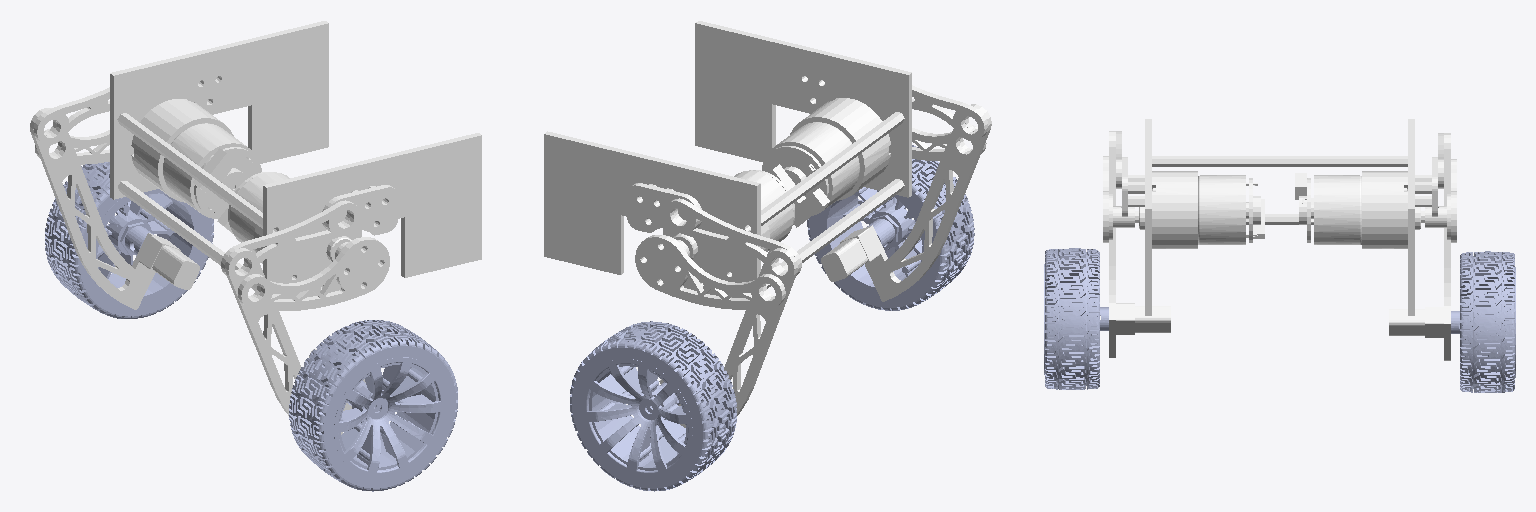
URDF robot description (Assembly_overall_v0.0.SLDASM):
<?xml version="1.0" encoding="utf-8"?>
<!-- This URDF was automatically created by SolidWorks to URDF Exporter! Originally created by [author] ([email redacted]) 
     Commit Version: 1.6.1-8-g78fed4e-dirty  Build Version: 1.6.8924.26967
     For more information, please see http://wiki.ros.org/sw_urdf_exporter -->
<robot
  name="Assembly_overall_v0.0.SLDASM">
  <link
    name="base_link">
    <inertial>
      <origin
        xyz="-0.012879 -0.0135 -0.00029326"
        rpy="0 0 0" />
      <mass
        value="0.13626" />
      <inertia
        ixx="4.2581E-05"
        ixy="5.1136E-21"
        ixz="2.4036E-08"
        iyy="5.4484E-05"
        iyz="3.3616E-07"
        izz="6.6494E-05" />
    </inertial>
    <visual>
      <origin
        xyz="0 0 0"
        rpy="0 0 0" />
      <geometry>
        <mesh
          filename="package://Assembly_overall_v0.0.SLDASM/meshes/base_link.STL" />
      </geometry>
      <material
        name="">
        <color
          rgba="1 1 1 0.35" />
      </material>
    </visual>
    <collision>
      <origin
        xyz="0 0 0"
        rpy="0 0 0" />
      <geometry>
        <mesh
          filename="package://Assembly_overall_v0.0.SLDASM/meshes/base_link.STL" />
      </geometry>
    </collision>
  </link>
  <link
    name="right_leg">
    <inertial>
      <origin
        xyz="0.0083782 -0.00097556 -0.0012867"
        rpy="0 0 0" />
      <mass
        value="0.0061572" />
      <inertia
        ixx="2.2499E-07"
        ixy="-1.4572E-14"
        ixz="7.0221E-08"
        iyy="1.4353E-06"
        iyz="-1.5993E-15"
        izz="1.2919E-06" />
    </inertial>
    <visual>
      <origin
        xyz="0 0 0"
        rpy="0 0 0" />
      <geometry>
        <mesh
          filename="package://Assembly_overall_v0.0.SLDASM/meshes/right_leg.STL" />
      </geometry>
      <material
        name="">
        <color
          rgba="1 1 1 0.35" />
      </material>
    </visual>
    <collision>
      <origin
        xyz="0 0 0"
        rpy="0 0 0" />
      <geometry>
        <mesh
          filename="package://Assembly_overall_v0.0.SLDASM/meshes/right_leg.STL" />
      </geometry>
    </collision>
  </link>
  <joint
    name="right_leg"
    type="revolute">
    <origin
      xyz="-0.010985 -0.0935 -0.0033489"
      rpy="0 -0.0083976 3.1416" />
    <parent
      link="base_link" />
    <child
      link="right_leg" />
    <axis
      xyz="0 1 0" />
    <limit
      lower="0"
      upper="0"
      effort="0"
      velocity="0" />
  </joint>
  <link
    name="right_motor">
    <inertial>
      <origin
        xyz="0.0117431609370559 -0.00392679780963535 0.0625677211557477"
        rpy="0 0 0" />
      <mass
        value="0.00744670173231385" />
      <inertia
        ixx="4.349401547325E-06"
        ixy="1.16908650938029E-10"
        ixz="-5.9605417722078E-07"
        iyy="4.50572616091561E-06"
        iyz="-9.80980058831325E-11"
        izz="5.30816144048294E-07" />
    </inertial>
    <visual>
      <origin
        xyz="0 0 0"
        rpy="0 0 0" />
      <geometry>
        <mesh
          filename="package://Assembly_overall_v0.0.SLDASM/meshes/right_motor.STL" />
      </geometry>
      <material
        name="">
        <color
          rgba="1 1 1 0.35" />
      </material>
    </visual>
    <collision>
      <origin
        xyz="0 0 0"
        rpy="0 0 0" />
      <geometry>
        <mesh
          filename="package://Assembly_overall_v0.0.SLDASM/meshes/right_motor.STL" />
      </geometry>
    </collision>
  </link>
  <joint
    name="right_motor"
    type="revolute">
    <origin
      xyz="0.054389 -0.003 0.011168"
      rpy="-3.1416 -0.37446 3.1416" />
    <parent
      link="right_leg" />
    <child
      link="right_motor" />
    <axis
      xyz="0 1 0" />
    <limit
      lower="0"
      upper="0"
      effort="0"
      velocity="0" />
  </joint>
  <link
    name="right_wheel">
    <inertial>
      <origin
        xyz="-0.0193500305694465 0.0184991043568992 3.51077662982813E-08"
        rpy="0 0 0" />
      <mass
        value="0.0484551794528226" />
      <inertia
        ixx="1.82785286774476E-05"
        ixy="-2.14596444280982E-11"
        ixz="-1.46762948457622E-09"
        iyy="3.14876177418613E-05"
        iyz="1.33405516235463E-11"
        izz="1.82798253984324E-05" />
    </inertial>
    <visual>
      <origin
        xyz="0 0 0"
        rpy="0 0 0" />
      <geometry>
        <mesh
          filename="package://Assembly_overall_v0.0.SLDASM/meshes/right_wheel.STL" />
      </geometry>
      <material
        name="">
        <color
          rgba="0.792156862745098 0.819607843137255 0.933333333333333 1" />
      </material>
    </visual>
    <collision>
      <origin
        xyz="0 0 0"
        rpy="0 0 0" />
      <geometry>
        <mesh
          filename="package://Assembly_overall_v0.0.SLDASM/meshes/right_wheel.STL" />
      </geometry>
    </collision>
  </link>
  <joint
    name="right_wheel"
    type="revolute">
    <origin
      xyz="0.037417 0.0015 0.093252"
      rpy="0 -0.76161 0" />
    <parent
      link="right_motor" />
    <child
      link="right_wheel" />
    <axis
      xyz="0 1 0" />
    <limit
      lower="0"
      upper="0"
      effort="0"
      velocity="0" />
  </joint>
  <link
    name="left_leg">
    <inertial>
      <origin
        xyz="0.0083782 0.0039756 -0.0012867"
        rpy="0 0 0" />
      <mass
        value="0.0061572" />
      <inertia
        ixx="2.2499E-07"
        ixy="-1.4572E-14"
        ixz="7.0221E-08"
        iyy="1.4353E-06"
        iyz="1.5993E-15"
        izz="1.2919E-06" />
    </inertial>
    <visual>
      <origin
        xyz="0 0 0"
        rpy="0 0 0" />
      <geometry>
        <mesh
          filename="package://Assembly_overall_v0.0.SLDASM/meshes/left_leg.STL" />
      </geometry>
      <material
        name="">
        <color
          rgba="1 1 1 0.35" />
      </material>
    </visual>
    <collision>
      <origin
        xyz="0 0 0"
        rpy="0 0 0" />
      <geometry>
        <mesh
          filename="package://Assembly_overall_v0.0.SLDASM/meshes/left_leg.STL" />
      </geometry>
    </collision>
  </link>
  <joint
    name="left_leg"
    type="revolute">
    <origin
      xyz="-0.010985 0.0695 -0.0033489"
      rpy="0 0.01638 3.1416" />
    <parent
      link="base_link" />
    <child
      link="left_leg" />
    <axis
      xyz="0 1 0" />
    <limit
      lower="0"
      upper="0"
      effort="0"
      velocity="0" />
  </joint>
  <link
    name="left_motor">
    <inertial>
      <origin
        xyz="0.0117431609370505 0.00692679780963534 0.062567721155764"
        rpy="0 0 0" />
      <mass
        value="0.00744670173231385" />
      <inertia
        ixx="4.34940154732499E-06"
        ixy="-1.16908650937643E-10"
        ixz="-5.9605417722077E-07"
        iyy="4.50572616091561E-06"
        iyz="9.80980058851035E-11"
        izz="5.30816144048292E-07" />
    </inertial>
    <visual>
      <origin
        xyz="0 0 0"
        rpy="0 0 0" />
      <geometry>
        <mesh
          filename="package://Assembly_overall_v0.0.SLDASM/meshes/left_motor.STL" />
      </geometry>
      <material
        name="">
        <color
          rgba="1 1 1 0.35" />
      </material>
    </visual>
    <collision>
      <origin
        xyz="0 0 0"
        rpy="0 0 0" />
      <geometry>
        <mesh
          filename="package://Assembly_overall_v0.0.SLDASM/meshes/left_motor.STL" />
      </geometry>
    </collision>
  </link>
  <joint
    name="left_motor"
    type="revolute">
    <origin
      xyz="0.053903 0.003 0.011347"
      rpy="-3.1416 -0.33131 3.1416" />
    <parent
      link="left_leg" />
    <child
      link="left_motor" />
    <axis
      xyz="0 1 0" />
    <limit
      lower="0"
      upper="0"
      effort="0"
      velocity="0" />
  </joint>
  <link
    name="left_wheel">
    <inertial>
      <origin
        xyz="-0.01935 0.018499 3.4445E-08"
        rpy="0 0 0" />
      <mass
        value="0.048455" />
      <inertia
        ixx="1.8278E-05"
        ixy="-2.2047E-11"
        ixz="1.2983E-09"
        iyy="3.1488E-05"
        iyz="1.3619E-11"
        izz="1.828E-05" />
    </inertial>
    <visual>
      <origin
        xyz="0 0 0"
        rpy="0 0 0" />
      <geometry>
        <mesh
          filename="package://Assembly_overall_v0.0.SLDASM/meshes/left_wheel.STL" />
      </geometry>
      <material
        name="">
        <color
          rgba="0.79216 0.81961 0.93333 1" />
      </material>
    </visual>
    <collision>
      <origin
        xyz="0 0 0"
        rpy="0 0 0" />
      <geometry>
        <mesh
          filename="package://Assembly_overall_v0.0.SLDASM/meshes/left_wheel.STL" />
      </geometry>
    </collision>
  </link>
  <joint
    name="left_wheel"
    type="revolute">
    <origin
      xyz="0.020945 0.0015 0.060707"
      rpy="0 1.4429 -3.1416" />
    <parent
      link="left_motor" />
    <child
      link="left_wheel" />
    <axis
      xyz="0 1 0" />
    <limit
      lower="0"
      upper="0"
      effort="0"
      velocity="0" />
  </joint>
  <link
    name="right_top">
    <inertial>
      <origin
        xyz="0.0250206183459842 0.0015 -0.000559413785413816"
        rpy="0 0 0" />
      <mass
        value="0.00172086992397043" />
      <inertia
        ixx="2.56463520901954E-08"
        ixy="4.24186731456841E-23"
        ixz="-1.062892032188E-08"
        iyy="6.37532224326688E-07"
        iyz="-9.7769479252199E-23"
        izz="6.14467177122448E-07" />
    </inertial>
    <visual>
      <origin
        xyz="0 0 0"
        rpy="0 0 0" />
      <geometry>
        <mesh
          filename="package://Assembly_overall_v0.0.SLDASM/meshes/right_top.STL" />
      </geometry>
      <material
        name="">
        <color
          rgba="1 1 1 0.35" />
      </material>
    </visual>
    <collision>
      <origin
        xyz="0 0 0"
        rpy="0 0 0" />
      <geometry>
        <mesh
          filename="package://Assembly_overall_v0.0.SLDASM/meshes/right_top.STL" />
      </geometry>
    </collision>
  </link>
  <joint
    name="right_top"
    type="revolute">
    <origin
      xyz="-0.065279 -0.0875 0.0082759"
      rpy="3.1416 -0.1683 0" />
    <parent
      link="base_link" />
    <child
      link="right_top" />
    <axis
      xyz="0 1 0" />
    <limit
      lower="0"
      upper="0"
      effort="0"
      velocity="0" />
  </joint>
  <link
    name="right_bottom">
    <inertial>
      <origin
        xyz="0.00414810752214947 0.0015 0.0512842007199136"
        rpy="0 0 0" />
      <mass
        value="0.00451046468572221" />
      <inertia
        ixx="4.13965246446439E-06"
        ixy="5.32459474498724E-23"
        ixz="-6.00834070146859E-07"
        iyy="4.45226818044798E-06"
        iyz="4.06013977068546E-22"
        izz="3.19381413012173E-07" />
    </inertial>
    <visual>
      <origin
        xyz="0 0 0"
        rpy="0 0 0" />
      <geometry>
        <mesh
          filename="package://Assembly_overall_v0.0.SLDASM/meshes/right_bottom.STL" />
      </geometry>
      <material
        name="">
        <color
          rgba="1 1 1 0.35" />
      </material>
    </visual>
    <collision>
      <origin
        xyz="0 0 0"
        rpy="0 0 0" />
      <geometry>
        <mesh
          filename="package://Assembly_overall_v0.0.SLDASM/meshes/right_bottom.STL" />
      </geometry>
    </collision>
  </link>
  <joint
    name="right_bottom"
    type="revolute">
    <origin
      xyz="0 0.003 0"
      rpy="0 0.19777 0" />
    <parent
      link="right_top" />
    <child
      link="right_bottom" />
    <axis
      xyz="0 1 0" />
    <limit
      lower="0"
      upper="0"
      effort="0"
      velocity="0" />
  </joint>
  <link
    name="left_top">
    <inertial>
      <origin
        xyz="0 0 0"
        rpy="0 0 0" />
      <mass
        value="0" />
      <inertia
        ixx="0"
        ixy="0"
        ixz="0"
        iyy="0"
        iyz="0"
        izz="0" />
    </inertial>
    <visual>
      <origin
        xyz="0 0 0"
        rpy="0 0 0" />
      <geometry>
        <mesh
          filename="package://Assembly_overall_v0.0.SLDASM/meshes/left_top.STL" />
      </geometry>
      <material
        name="">
        <color
          rgba="1 1 1 1" />
      </material>
    </visual>
    <collision>
      <origin
        xyz="0 0 0"
        rpy="0 0 0" />
      <geometry>
        <mesh
          filename="package://Assembly_overall_v0.0.SLDASM/meshes/left_top.STL" />
      </geometry>
    </collision>
  </link>
  <joint
    name="left_top"
    type="revolute">
    <origin
      xyz="-0.065067 0.0635 0.007114"
      rpy="3.1416 -0.19192 0" />
    <parent
      link="base_link" />
    <child
      link="left_top" />
    <axis
      xyz="0 1 0" />
    <limit
      lower="0"
      upper="0"
      effort="0"
      velocity="0" />
  </joint>
  <link
    name="left_bottom">
    <inertial>
      <origin
        xyz="0.0041481 0.0015 0.051284"
        rpy="0 0 0" />
      <mass
        value="0.0045105" />
      <inertia
        ixx="4.1397E-06"
        ixy="7.2811E-22"
        ixz="-6.0083E-07"
        iyy="4.4523E-06"
        iyz="1.565E-21"
        izz="3.1938E-07" />
    </inertial>
    <visual>
      <origin
        xyz="0 0 0"
        rpy="0 0 0" />
      <geometry>
        <mesh
          filename="package://Assembly_overall_v0.0.SLDASM/meshes/left_bottom.STL" />
      </geometry>
      <material
        name="">
        <color
          rgba="1 1 1 0.35" />
      </material>
    </visual>
    <collision>
      <origin
        xyz="0 0 0"
        rpy="0 0 0" />
      <geometry>
        <mesh
          filename="package://Assembly_overall_v0.0.SLDASM/meshes/left_bottom.STL" />
      </geometry>
    </collision>
  </link>
  <joint
    name="left_bottom"
    type="revolute">
    <origin
      xyz="0 -0.003 0"
      rpy="0 0.15577 0" />
    <parent
      link="left_top" />
    <child
      link="left_bottom" />
    <axis
      xyz="0 1 0" />
    <limit
      lower="0"
      upper="0"
      effort="0"
      velocity="0" />
  </joint>
</robot>

--- What the picture shows (computed from the rendered views, not written in the file) ---
3 views of the same robot in one strip: view 1: azimuth 30°, elevation 25°; view 2: azimuth 150°, elevation 25°; view 3: azimuth 270°, elevation 25° (orthographic).
Model Assembly_overall_v0.0.SLDASM with 11 links and 10 joints (10 revolute), rooted at base_link, posed all joints at 0.
Links seen in each view (by area): view 1: base_link, right_wheel, left_wheel, left_motor, right_leg, right_motor, right_top, left_top, left_bottom, left_leg, right_bottom; view 2: base_link, left_wheel, right_wheel, right_bottom, left_leg, left_bottom, left_top, right_motor, right_top, right_leg; view 3: base_link, right_wheel, left_wheel, left_motor, right_motor, right_leg, left_leg.
Link boxes in pixels (box(x1,y1,x2,y2)): base_link: box(110, 21, 481, 298); right_wheel: box(289, 320, 457, 491); left_wheel: box(45, 162, 213, 318); left_motor: box(33, 121, 199, 309); right_leg: box(238, 237, 389, 310); right_motor: box(228, 250, 365, 434); right_top: box(221, 200, 360, 275); left_top: box(34, 87, 109, 144); left_bottom: box(30, 108, 169, 293); left_leg: box(35, 128, 109, 164); right_bottom: box(225, 248, 294, 395); base_link: box(544, 21, 911, 297); left_wheel: box(570, 321, 736, 491); right_wheel: box(807, 145, 974, 310); right_bottom: box(851, 104, 991, 301); left_leg: box(635, 235, 785, 309); left_bottom: box(659, 248, 797, 427); left_top: box(664, 198, 801, 275); right_motor: box(821, 219, 942, 298); right_top: box(912, 85, 987, 140); right_leg: box(912, 125, 986, 160); base_link: box(1122, 119, 1437, 315); right_wheel: box(1044, 248, 1108, 389); left_wheel: box(1451, 251, 1515, 392); left_motor: box(1389, 138, 1450, 360); right_motor: box(1100, 136, 1170, 357); right_leg: box(1103, 156, 1134, 242); left_leg: box(1425, 159, 1456, 242).
Size in the robot's own frame: 0.1276 by 0.2206 by 0.1249 metres.
Meshes: 11 distinct files referenced, 11 mesh visuals loaded (11 binary STL).